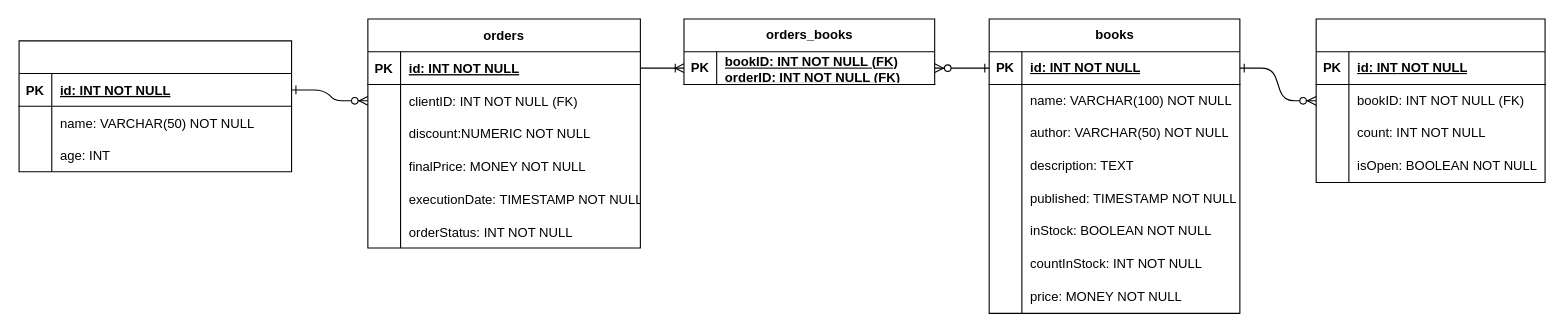
Some shapes in this 1564 by 332 pixel diagram are drawn without their labels. The box of each missing label's shape, as (x1, y1, x2, y2) in pixels:
clients: (18, 40, 292, 172)
requests: (1315, 18, 1545, 183)
